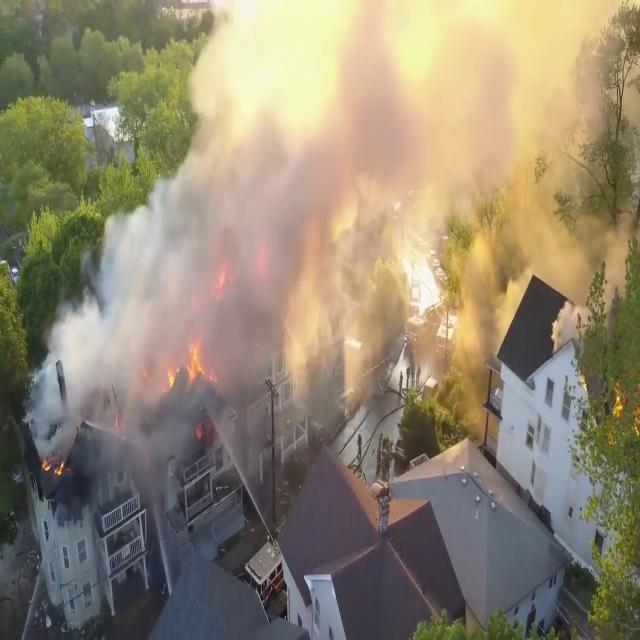Smoke: (36, 1, 495, 446)
